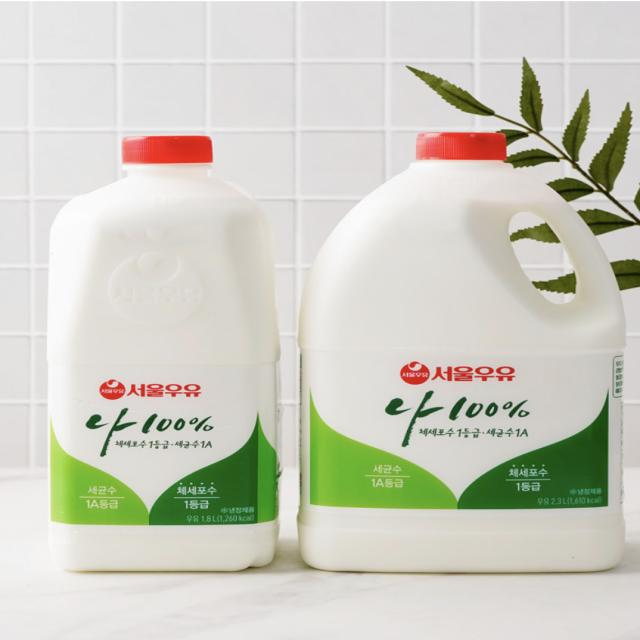recyclable: (290, 75, 634, 602), (23, 98, 301, 589)
